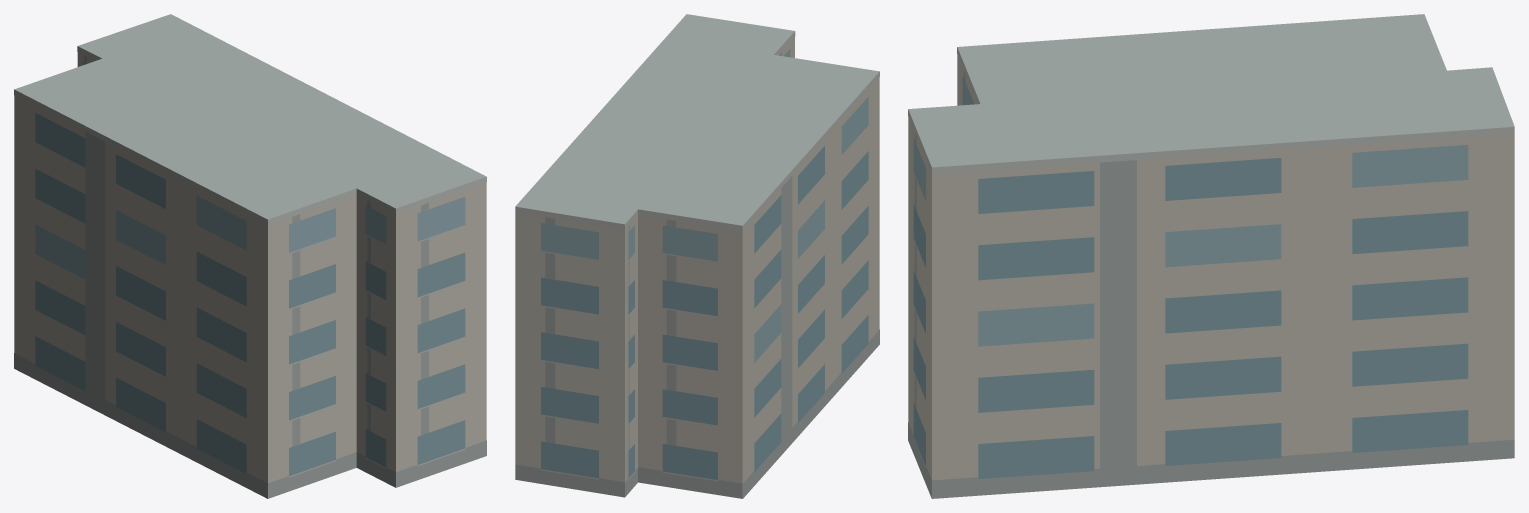
File: survey-upis-33001541.glb
The picture shows the model from 3 angles, left to right: view 1: azimuth 30°, elevation 25°; view 2: azimuth 150°, elevation 25°; view 3: azimuth 270°, elevation 25°; orthographic projection. The views are drawn at different scales.
Visible parts, largest first — view 1: survey-upis-33001541.tmp; view 2: survey-upis-33001541.tmp; view 3: survey-upis-33001541.tmp.
Part boxes in pixels (box(x1,y1,x2,y2)): survey-upis-33001541.tmp: box(14, 14, 486, 498); survey-upis-33001541.tmp: box(515, 14, 879, 498); survey-upis-33001541.tmp: box(908, 14, 1514, 498).
Size of the model in its own units: 11.63 by 11.7 by 19.42.
